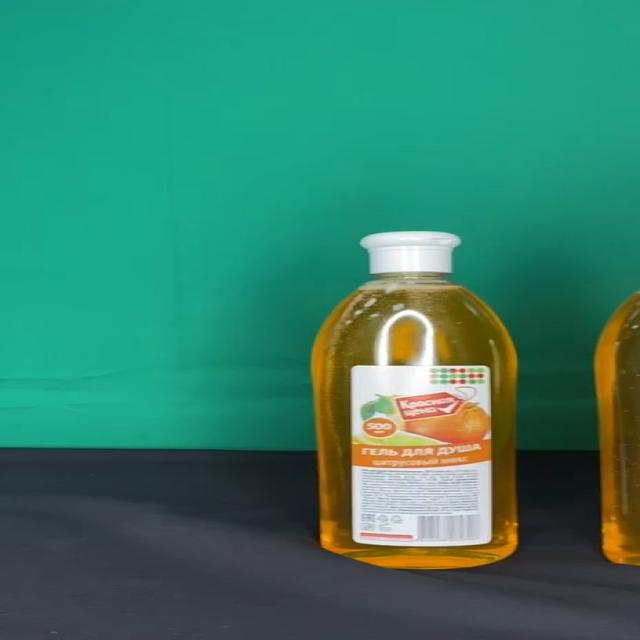Bottle: (312, 232, 520, 567)
Cap: (361, 232, 461, 274)
